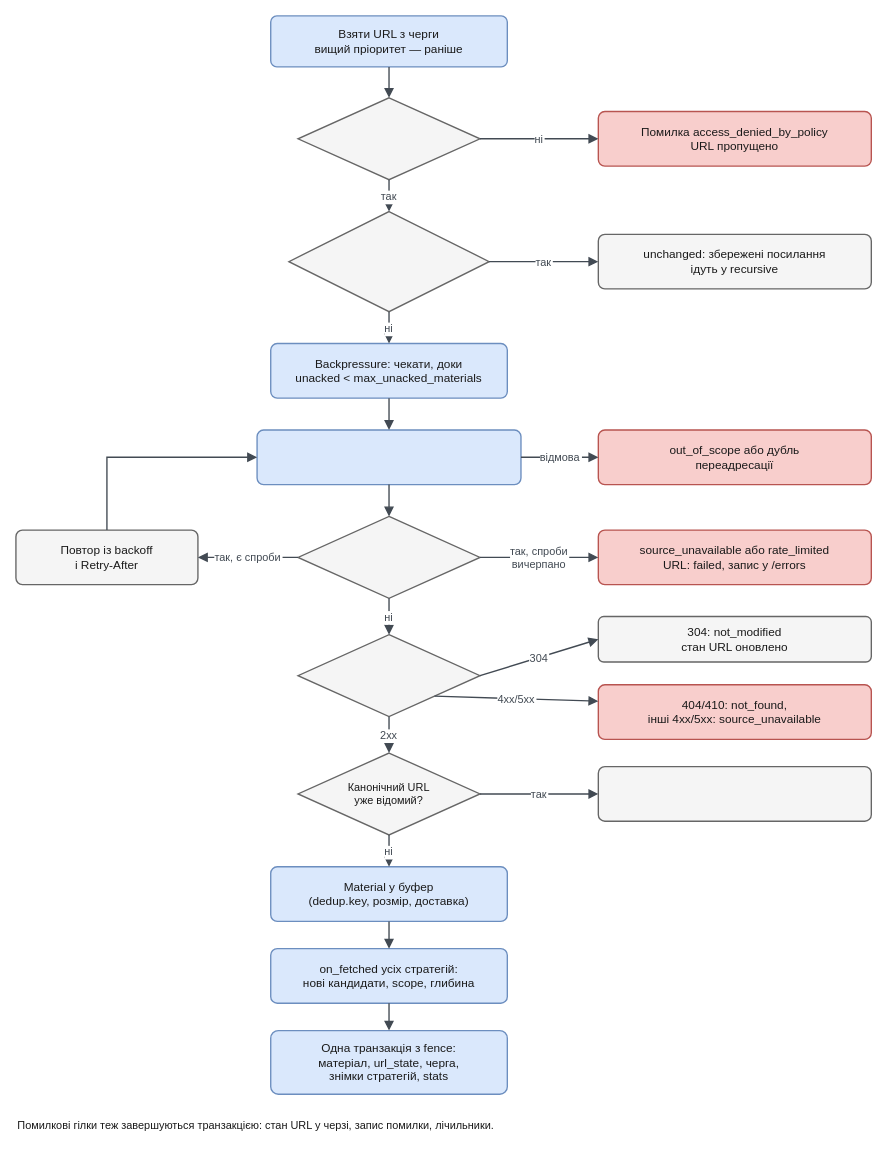
This 888x1156 diagram has some shape labels left out. Each missing label, with the centre of its shape:
"429, 5xx або збій мережі?" belongs at [388,557].
"duplicates + 1 матеріал не видається" belongs at [734,794].
"HTTP-запит: ліміти хоста, кожна переадресація — scope, robots" belongs at [388,457].
"incremental: revisit дозволяє пропуск?" belongs at [388,261].
"robots.txt дозволяє?" belongs at [388,138].
"Статус відповіді" belongs at [388,675].
